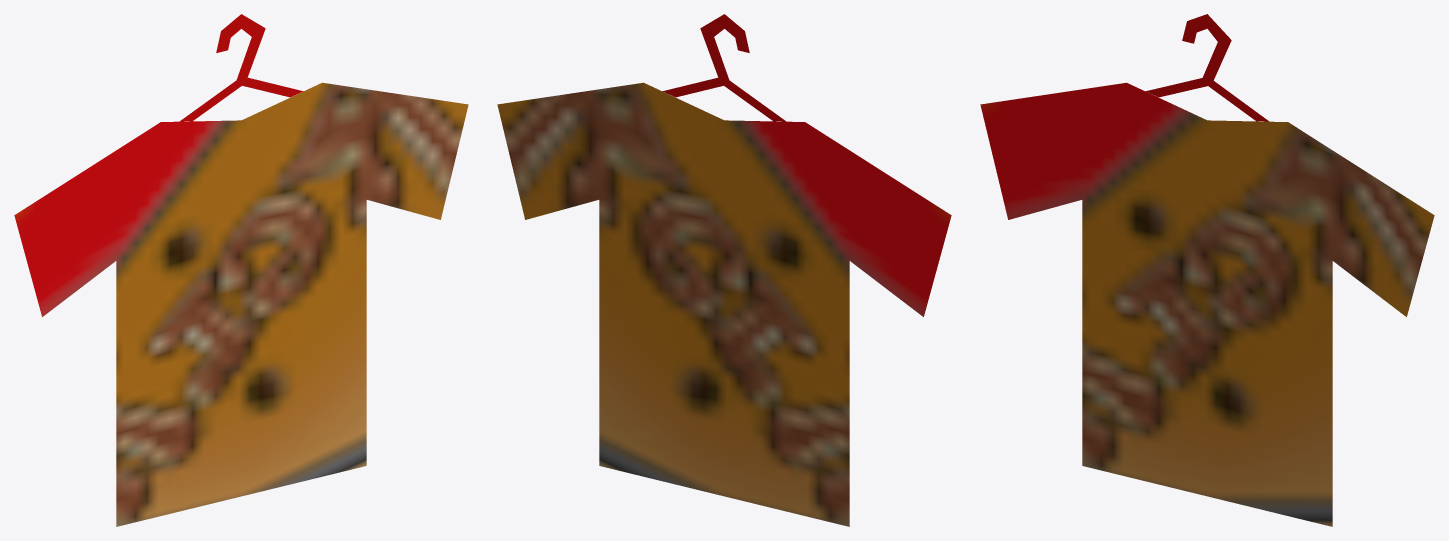
The model's file is Shirt_Alex.fbx.
3 renders of one model, left to right at view 1: azimuth 30°, elevation 25°; view 2: azimuth 150°, elevation 25°; view 3: azimuth 330°, elevation 25°, orthographic.
Visible parts, largest first — view 1: Shirt_Alex; view 2: Shirt_Alex; view 3: Shirt_Alex.
Boxes of the visible parts, <box> form: Shirt_Alex: <box>14,14,468,526</box>; Shirt_Alex: <box>497,14,951,526</box>; Shirt_Alex: <box>980,14,1434,526</box>.
Size of the model in its own units: 73.32 by 74.41 by 6.42e-12.
